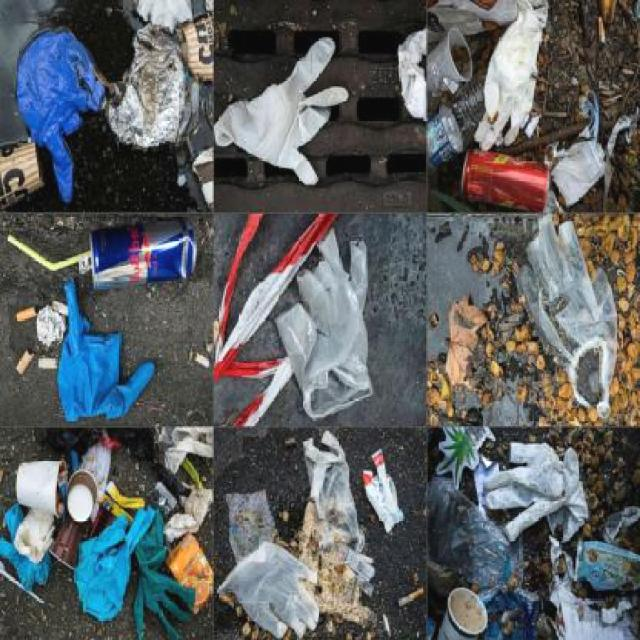glove: (215, 30, 347, 199), (278, 236, 373, 432), (525, 222, 618, 409), (14, 17, 101, 215), (56, 280, 159, 426), (481, 440, 587, 549), (474, 7, 551, 148), (224, 550, 322, 638), (77, 506, 151, 622), (308, 432, 364, 585), (132, 521, 194, 639), (5, 508, 29, 601)
